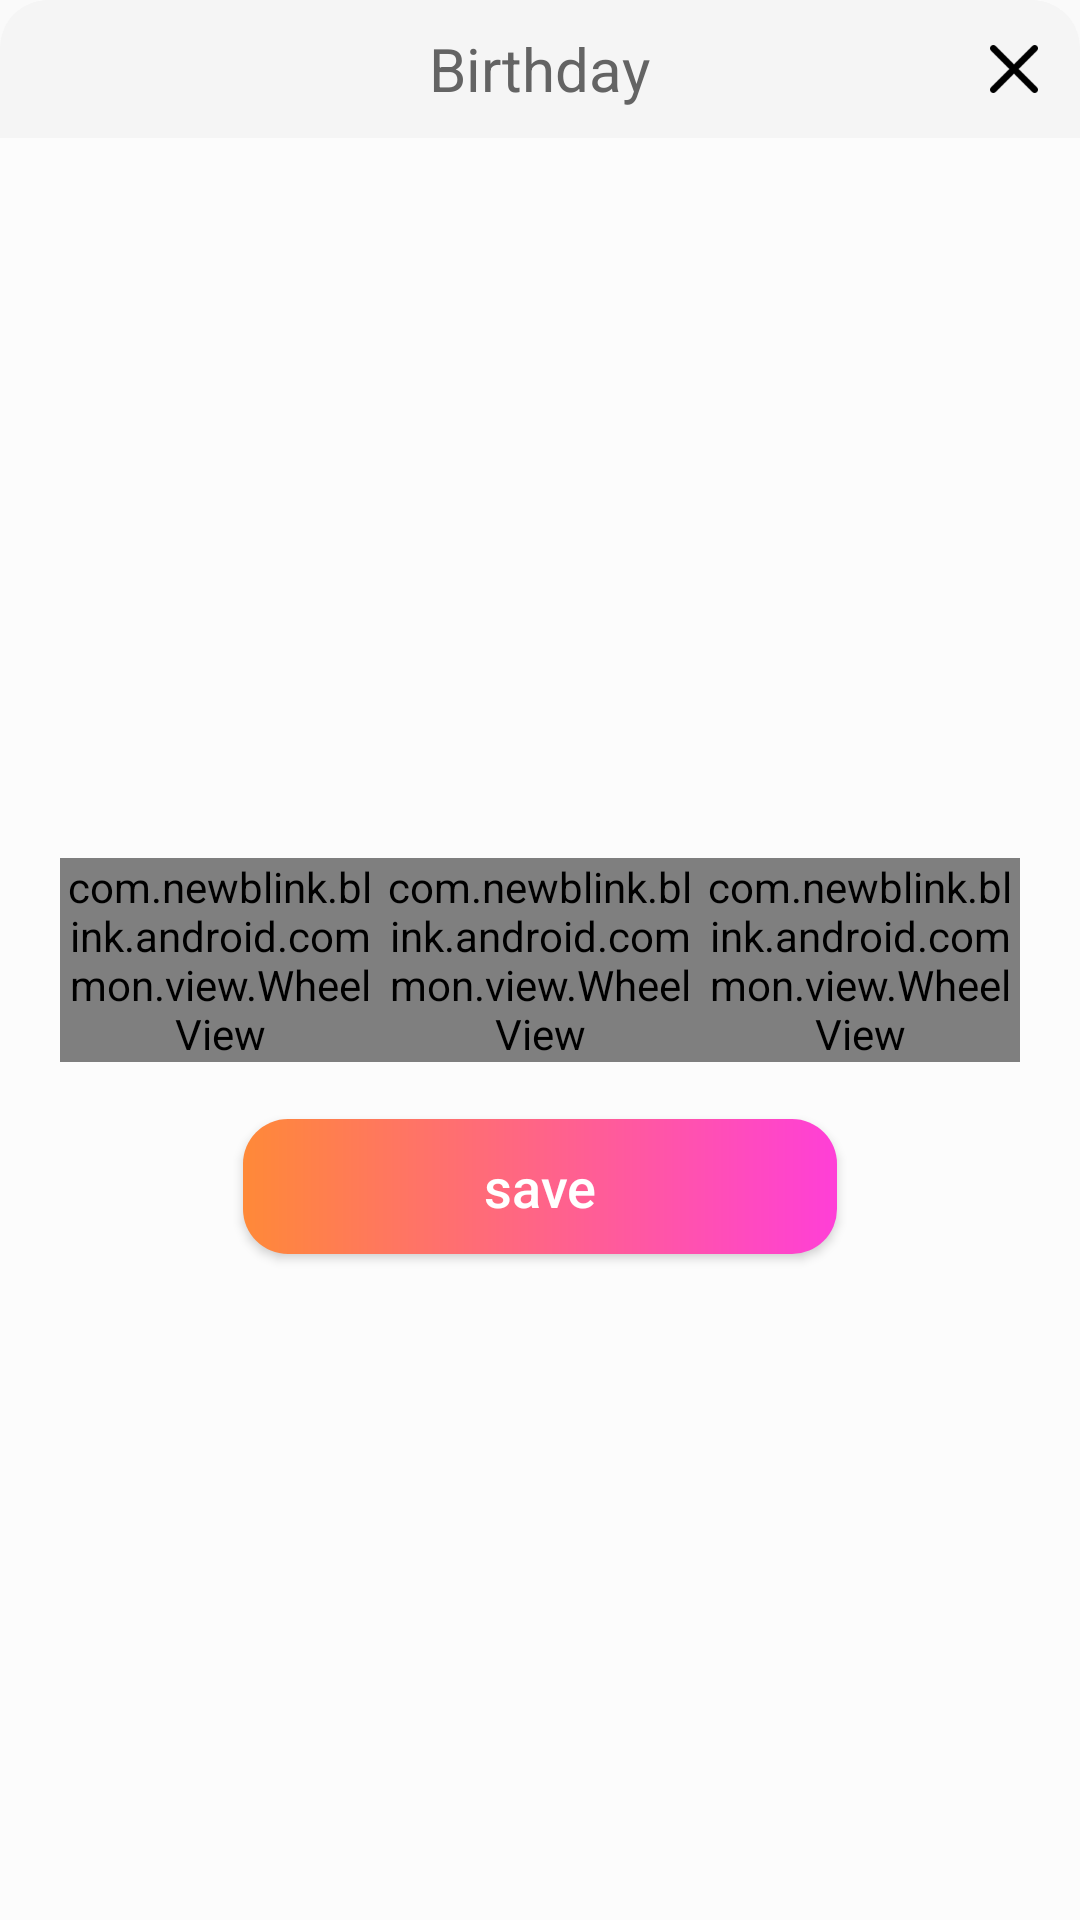

Screen size 1080 x 1920. Icon name, then its box in pixels as (x1, y1, x2, y2):
close birthday: (990, 45, 1038, 93)
